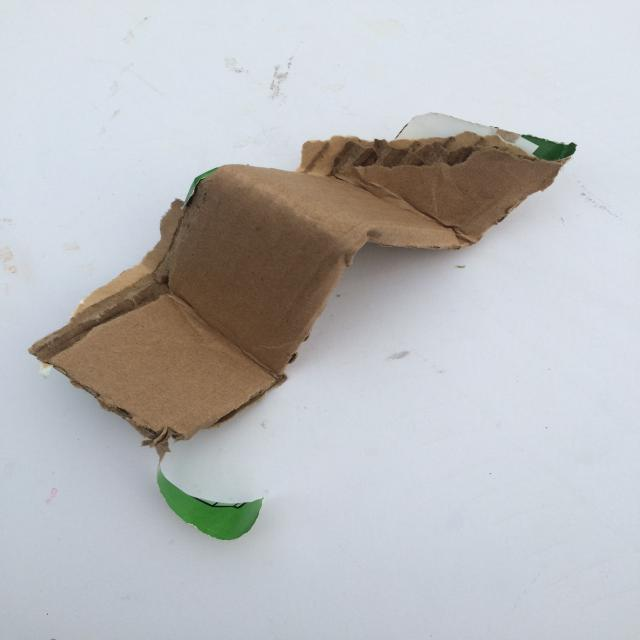cardboard: (28, 111, 574, 448)
